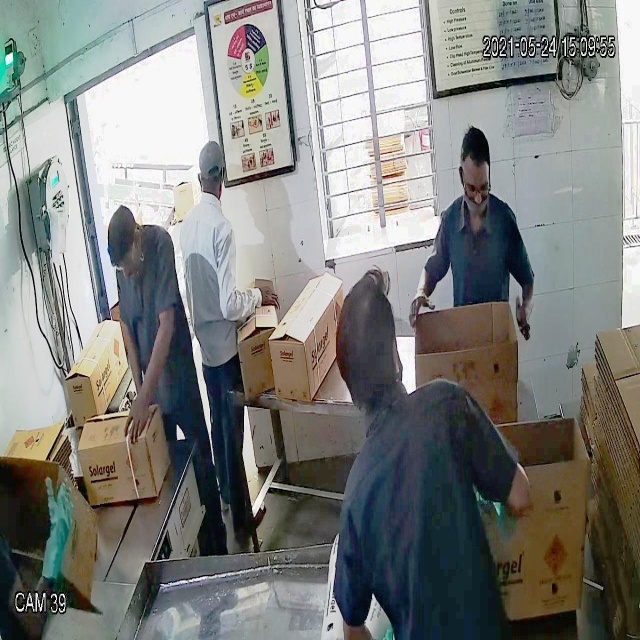Gafas: (458, 164, 492, 204)
